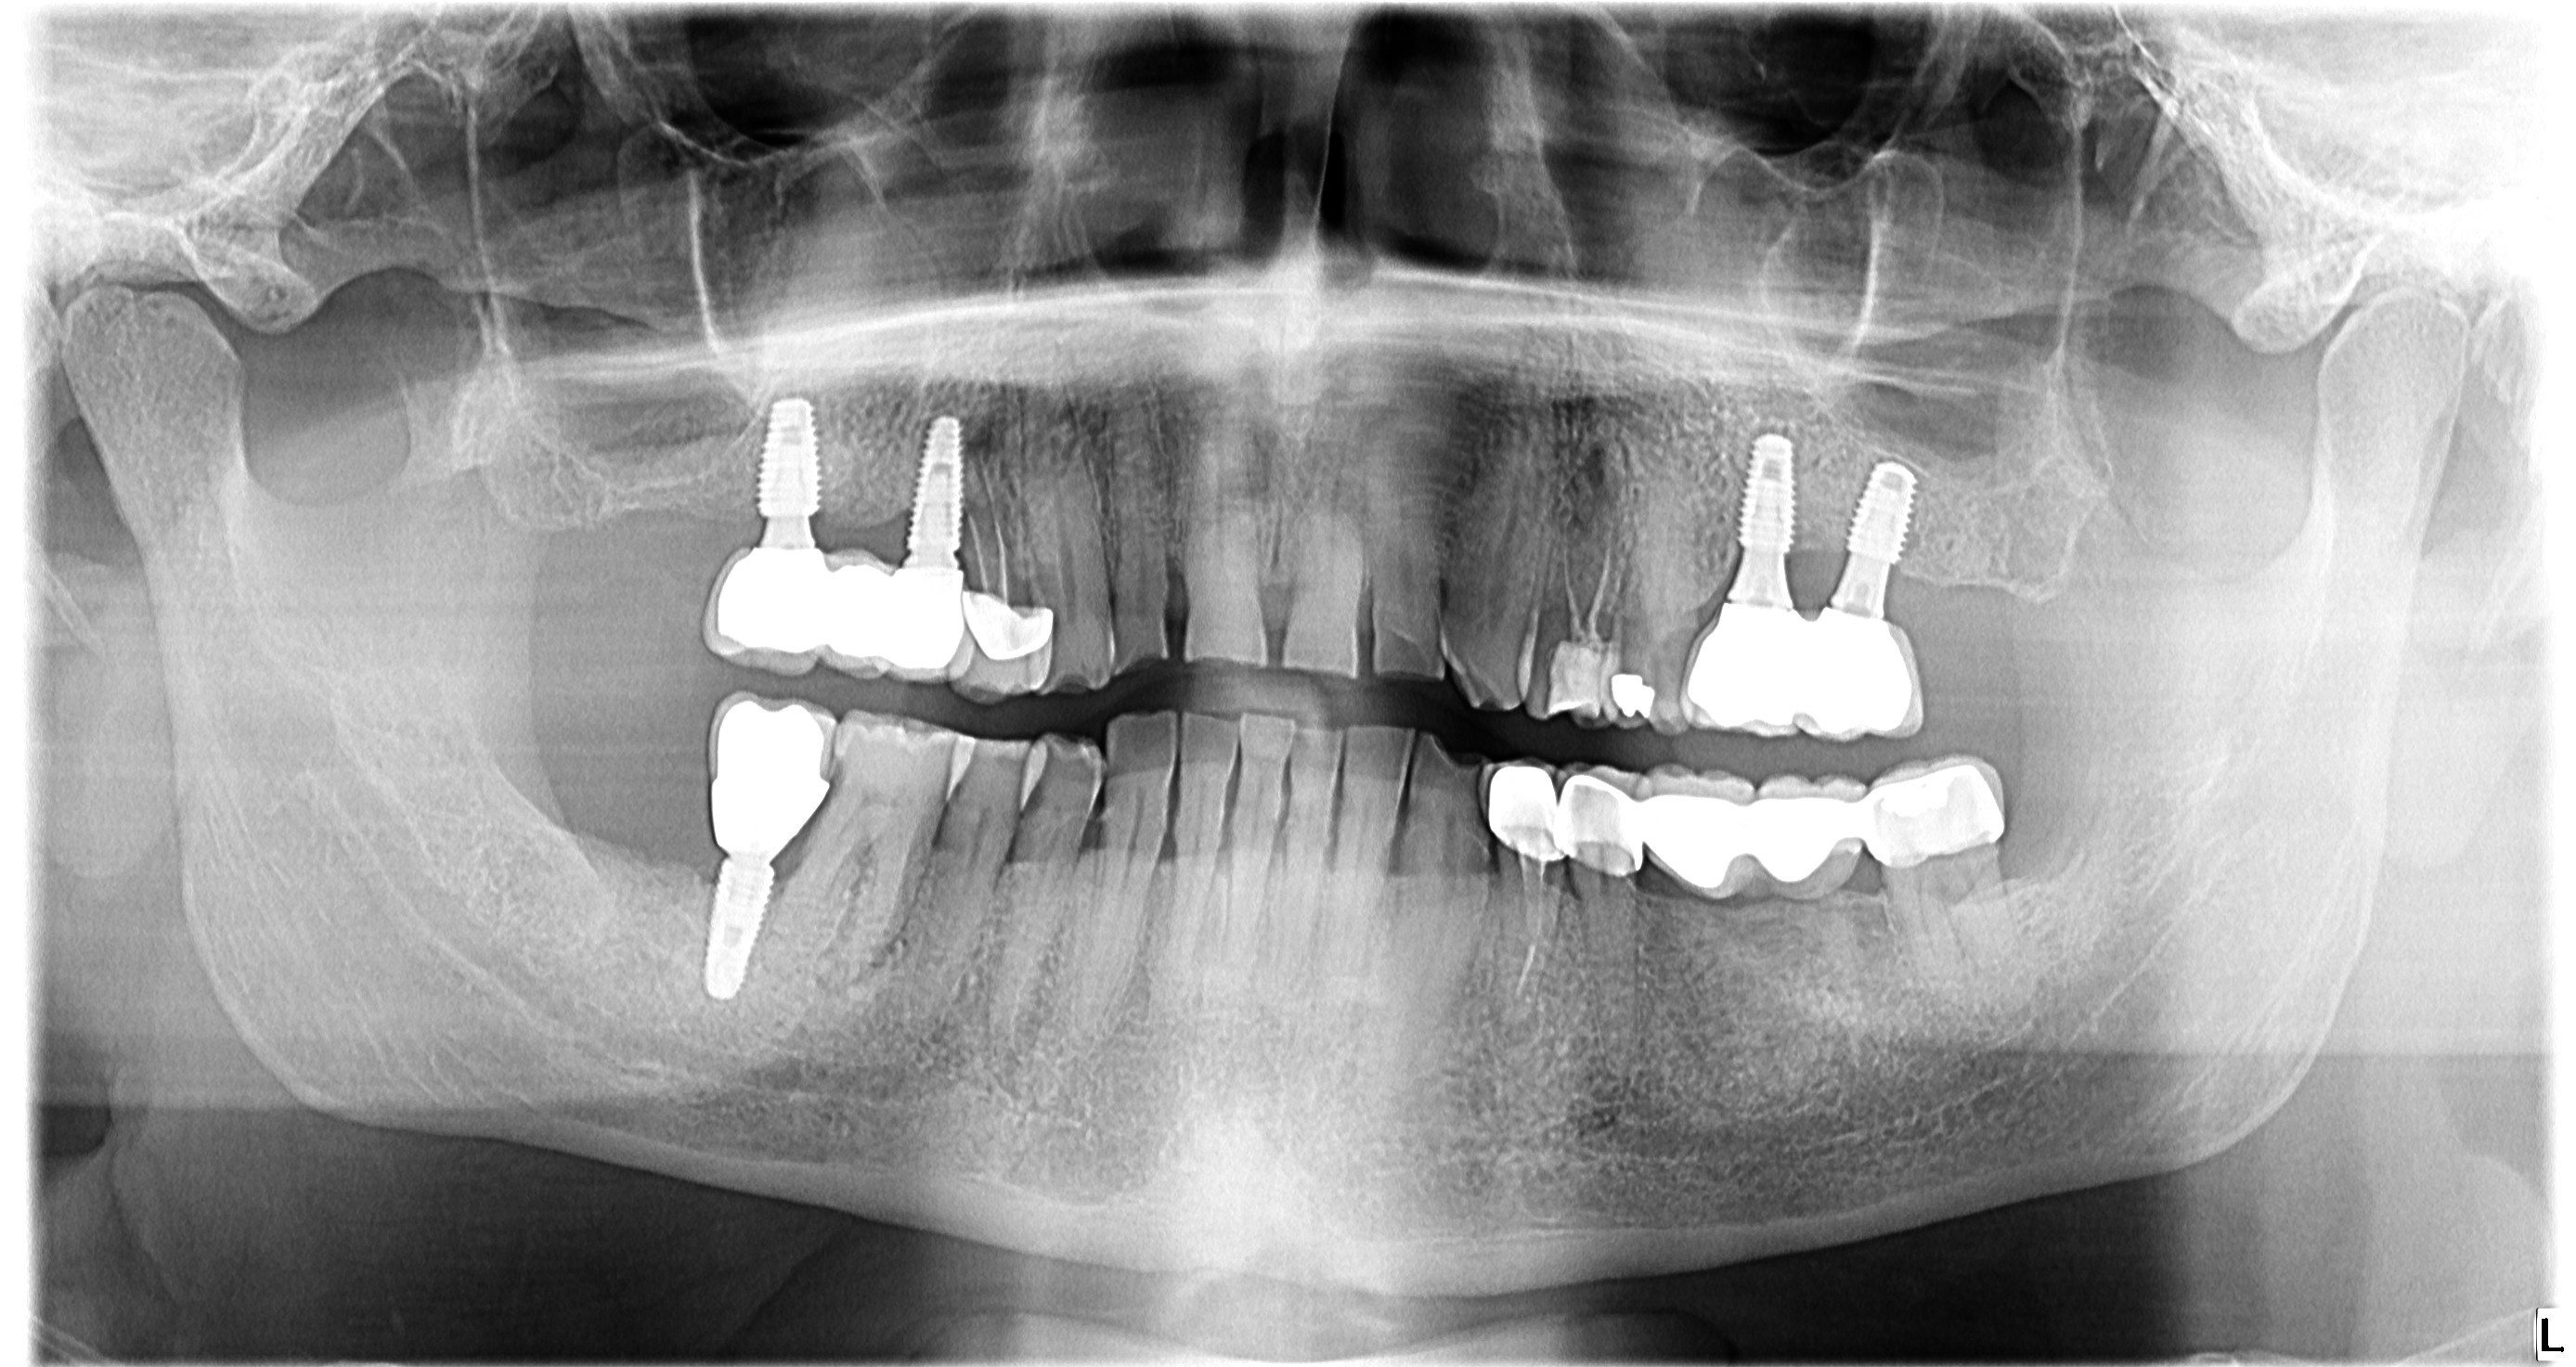API: (722, 483, 2266, 1367)
CAR: (808, 257, 2508, 967), (497, 369, 1540, 1200)
END: (472, 315, 2489, 1205), (721, 354, 2276, 1362), (738, 191, 2361, 826), (463, 146, 1469, 741)
IMP: (813, 123, 2576, 724), (864, 150, 2576, 759), (307, 349, 1087, 1358), (397, 117, 1373, 678), (336, 109, 1160, 632)
OBT: (734, 228, 2576, 972), (404, 240, 1457, 933), (285, 262, 1119, 1112), (218, 184, 1187, 863)
PRR: (789, 284, 2443, 1015), (738, 274, 2344, 1004)
